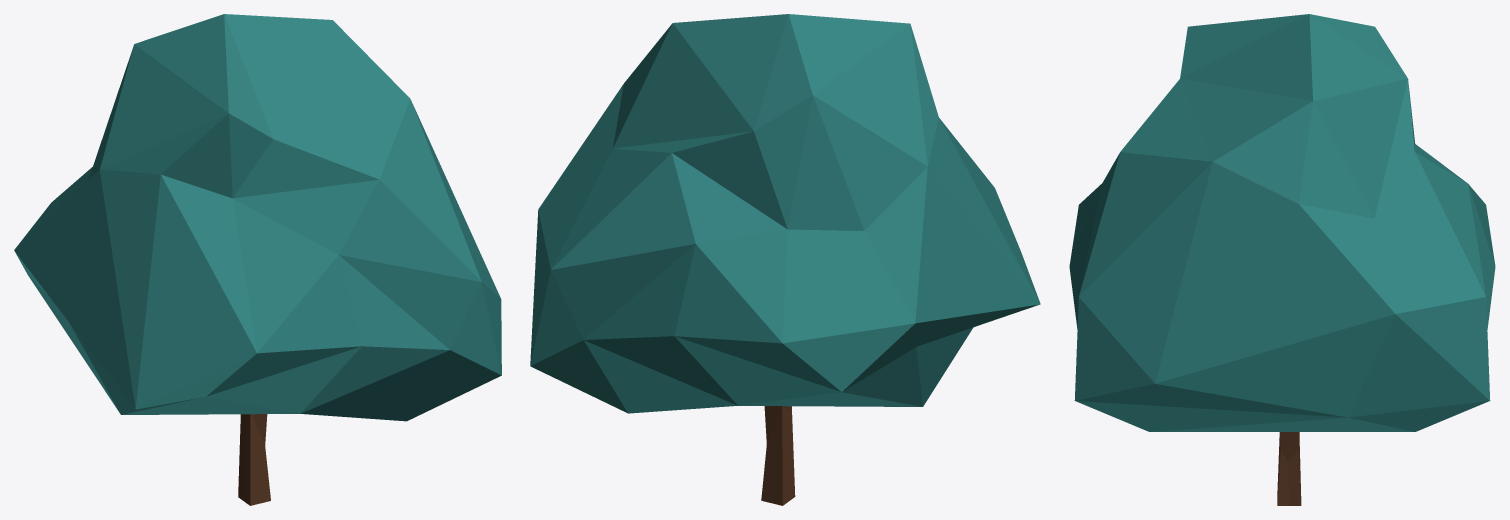
Rendered from Tree_19_Blue.fbx.
3 views of the same model, side by side, from view 1: azimuth 30°, elevation 25°; view 2: azimuth 150°, elevation 25°; view 3: azimuth 270°, elevation 25° (orthographic). The views are drawn at different scales.
Parts seen in each view (by area): view 1: Tree_19_Blue_Part_1, Tree_19_Blue_Part_2; view 2: Tree_19_Blue_Part_1, Tree_19_Blue_Part_2; view 3: Tree_19_Blue_Part_1, Tree_19_Blue_Part_2.
Part boxes in pixels (bbox=[...]): Tree_19_Blue_Part_1: bbox=[14, 14, 501, 421]; Tree_19_Blue_Part_2: bbox=[238, 414, 270, 505]; Tree_19_Blue_Part_1: bbox=[530, 14, 1040, 413]; Tree_19_Blue_Part_2: bbox=[761, 406, 795, 505]; Tree_19_Blue_Part_1: bbox=[1069, 14, 1495, 431]; Tree_19_Blue_Part_2: bbox=[1277, 432, 1301, 505].
Size of the model in its own units: 641 by 800 by 647.
